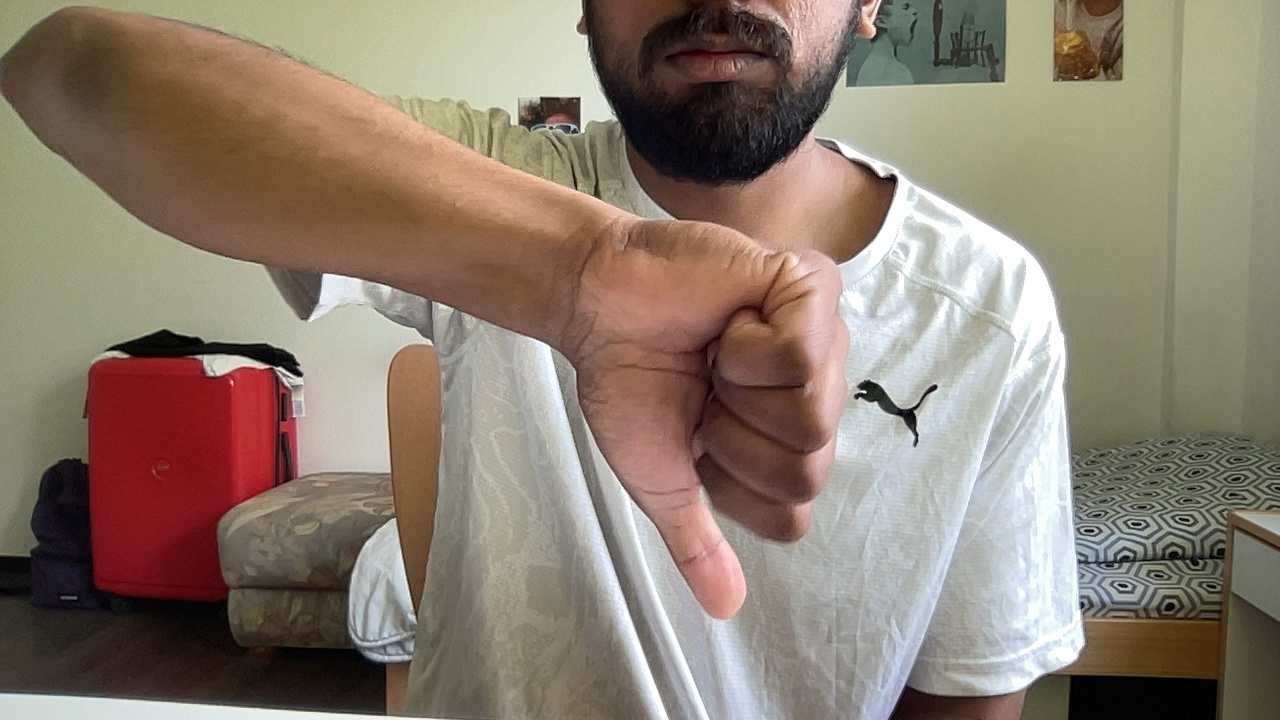ThumbsDown: (585, 219, 852, 620)
